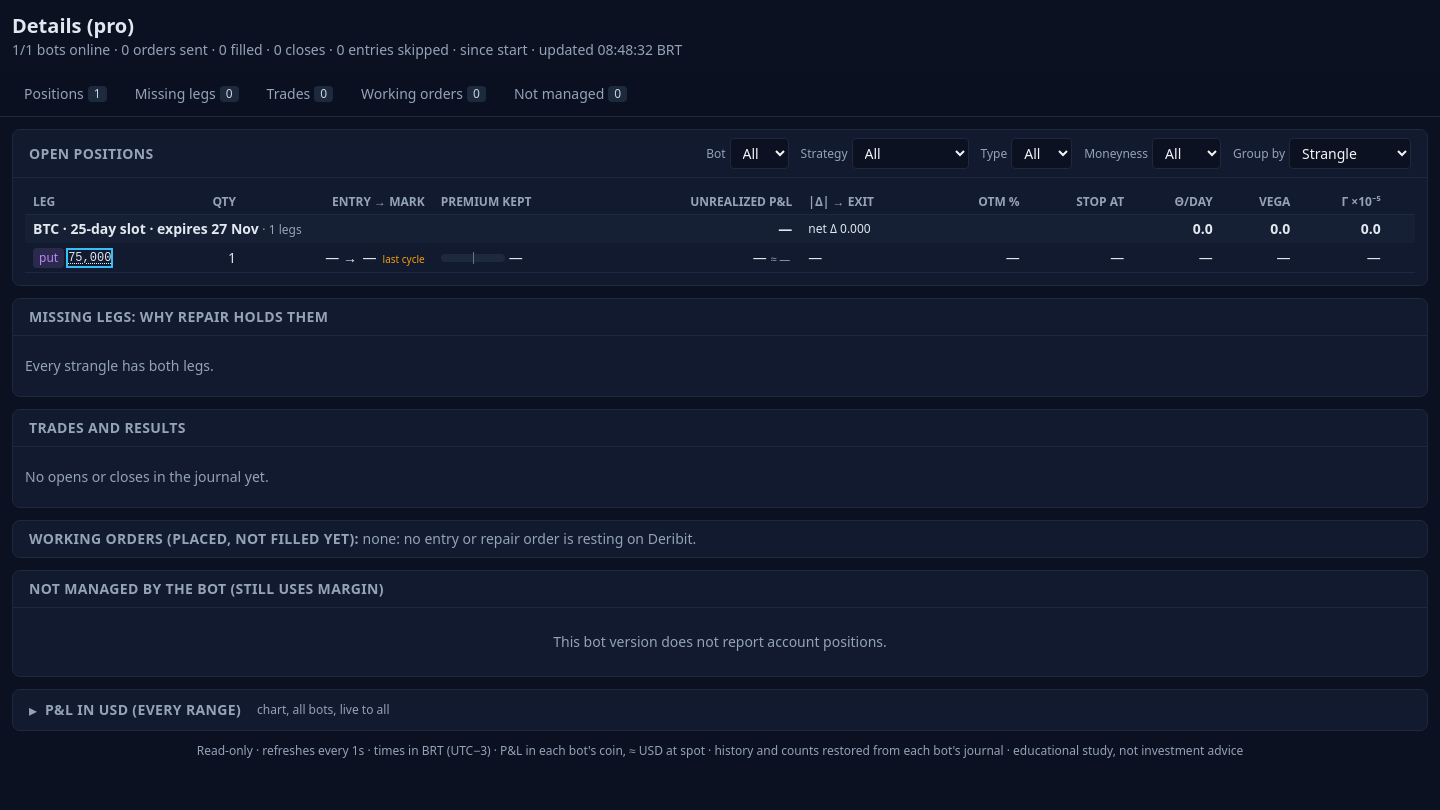
Test: Scenario: open from a leg › a leg in the positions table opens the modal with that leg's strangle; Esc closes it and focus returns to the row
This screenshot has width=1440, height=810.
Click the button "75,000": (90, 258) [68,250,111,266]
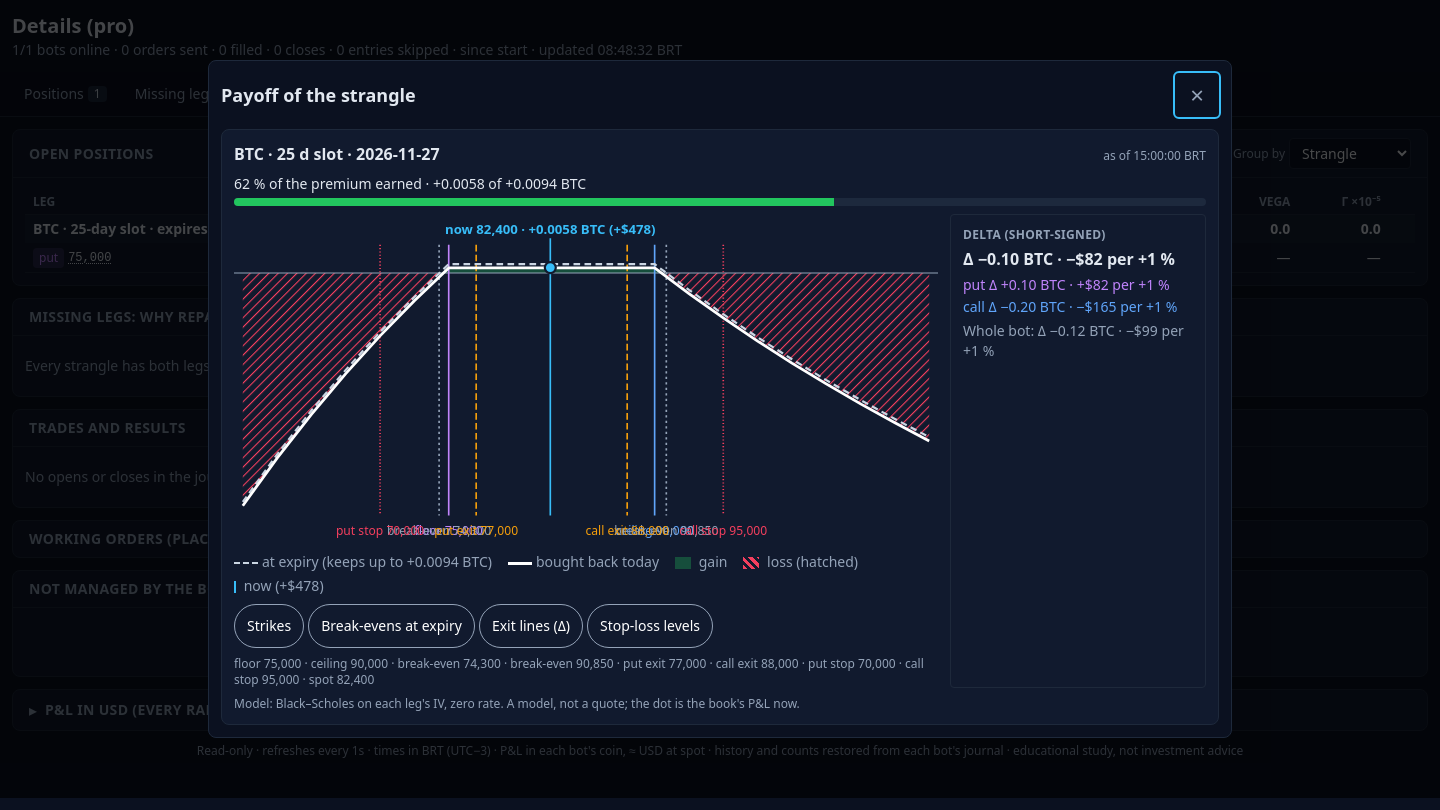
Check: the heading "BTC · 25 d slot · 2026-11-27" is shown, box [234,142,440,166]
Press Escape in the dialog "Payoff of the strangle", box [208,60,1232,738]
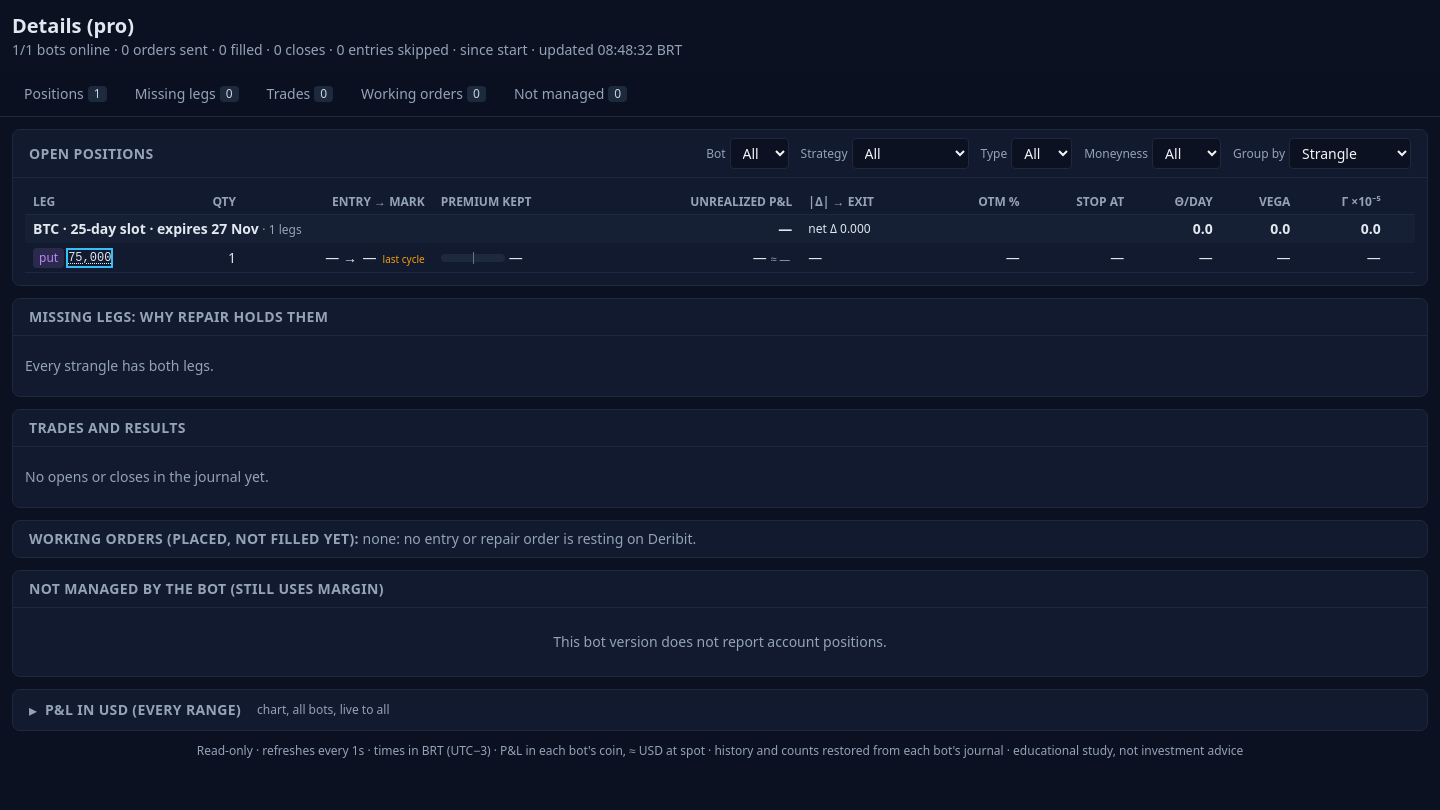
Check: the dialog is gone
